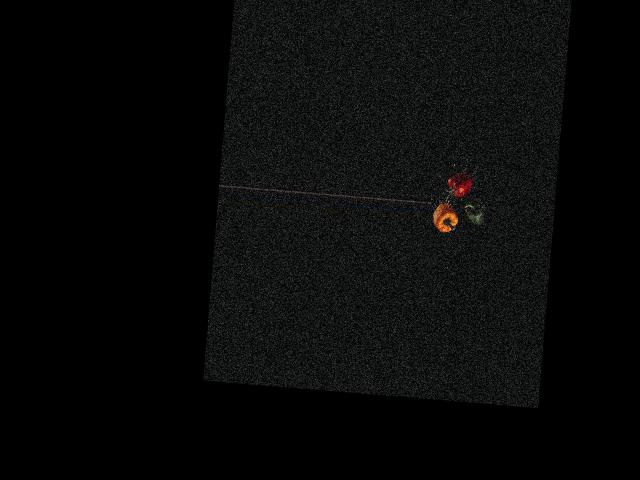bell_pepper: (439, 170, 478, 203)
